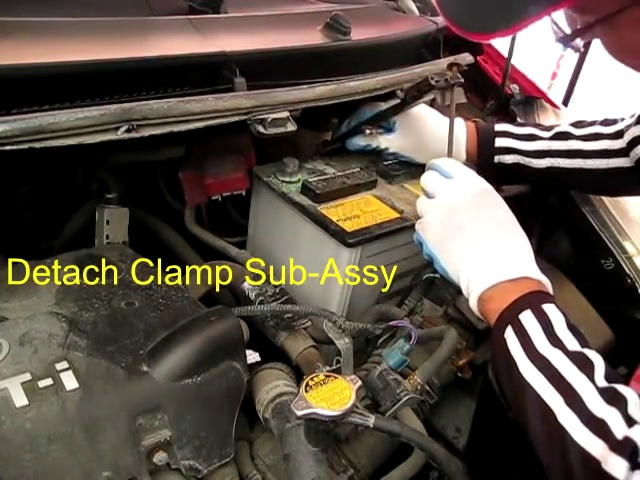battery: (254, 138, 536, 228)
pos_disconnected: (196, 137, 315, 197)
